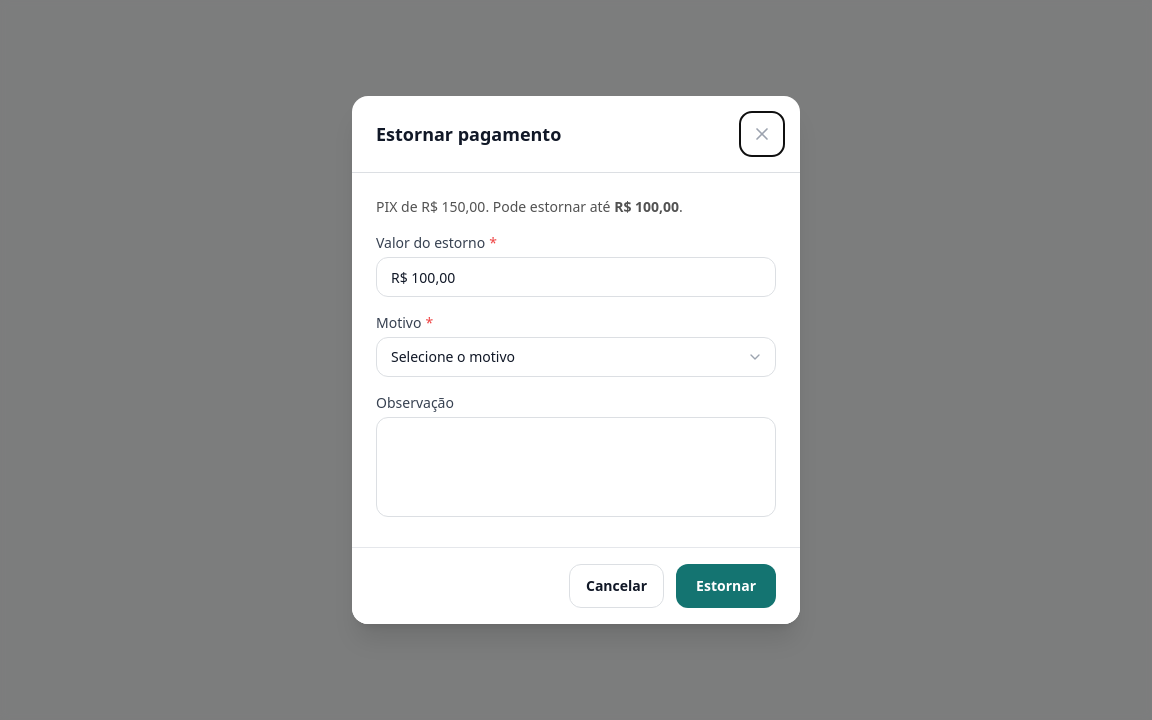
Test case: RefundModal › estorna parcialmente com motivo e observação
Replace the text in the field labelled "Valor do estorno*" with "3000". click: (576, 277)
box: left=376, top=257, right=776, bottom=297
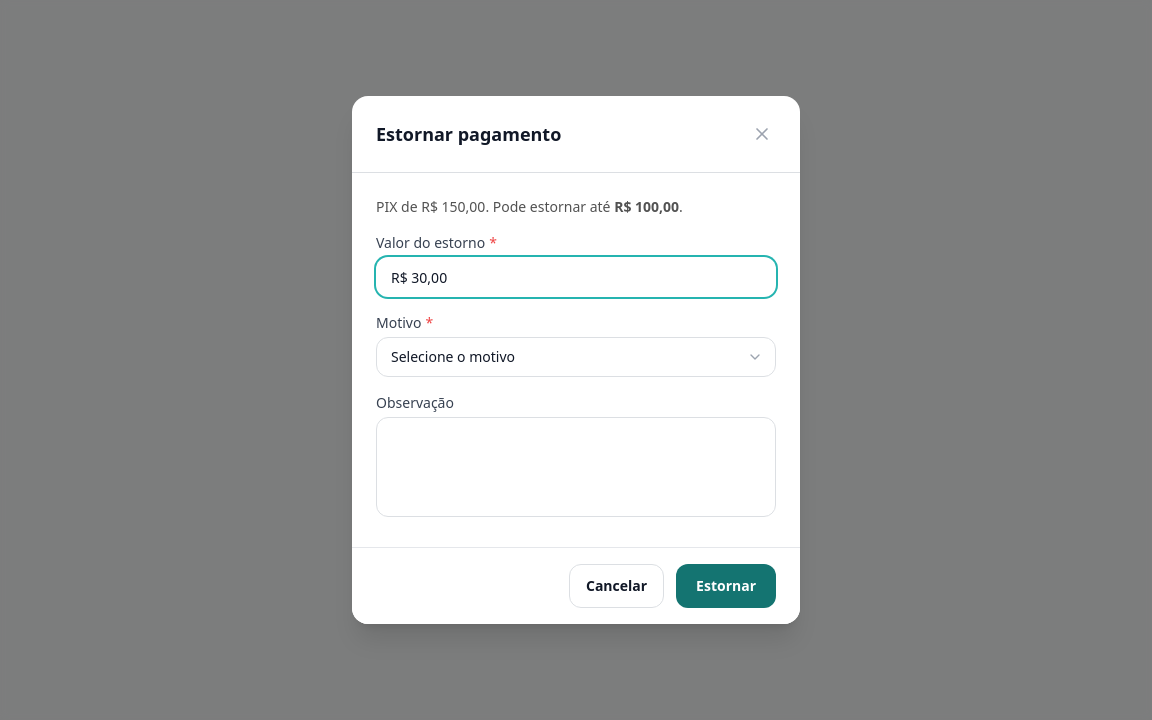
Select "Erro no valor lançado" in the dropdown labelled "Motivo*". click: (576, 357)
box: left=376, top=337, right=776, bottom=377
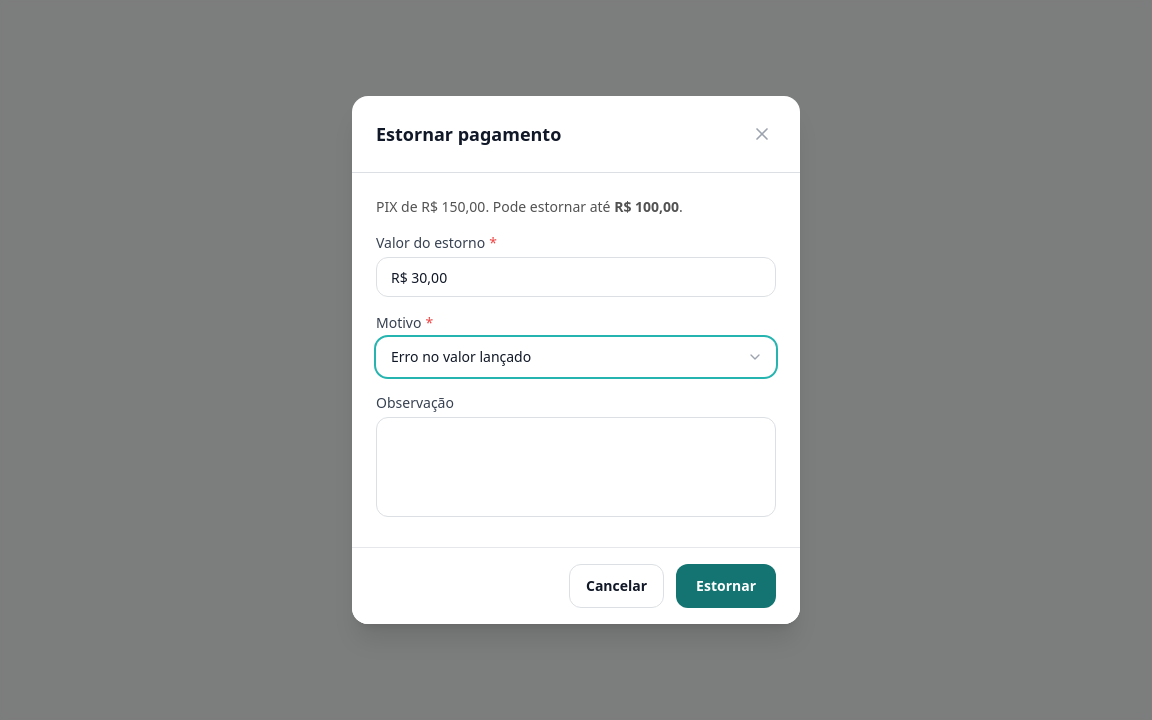
Type "Cobrou a mais" into the text box labelled "Observação". click: (576, 467)
box: left=376, top=417, right=776, bottom=517
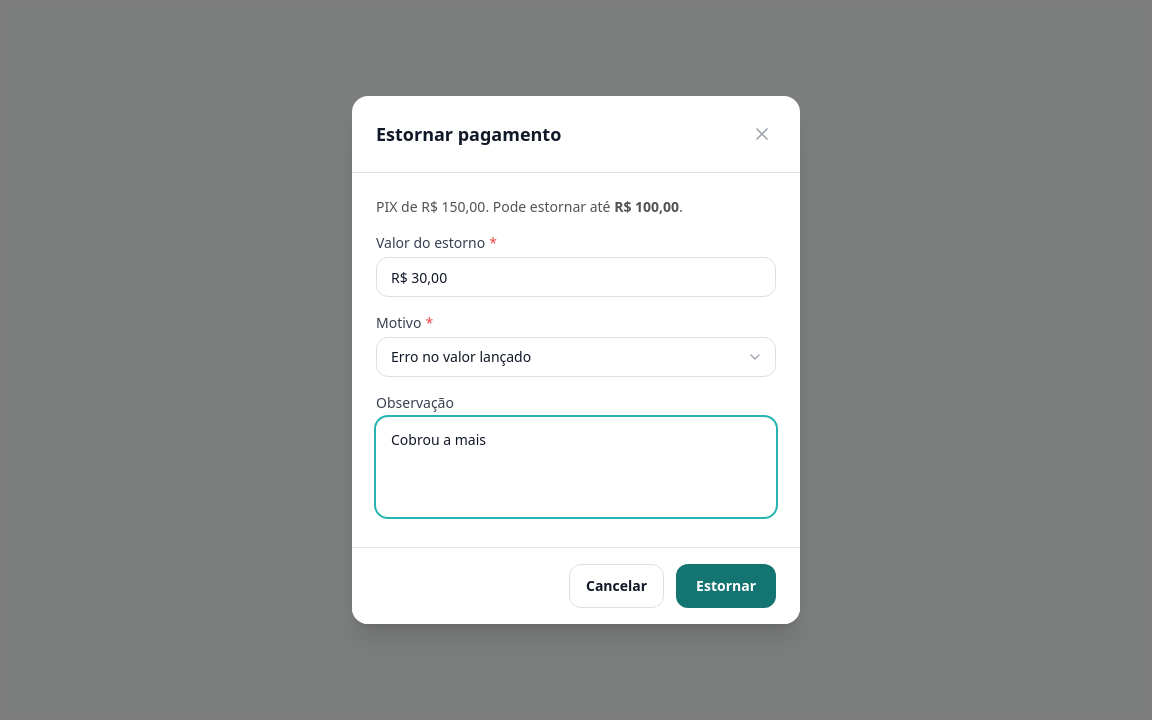
Click the button "Estornar". click: (726, 586)
box: left=676, top=564, right=776, bottom=608
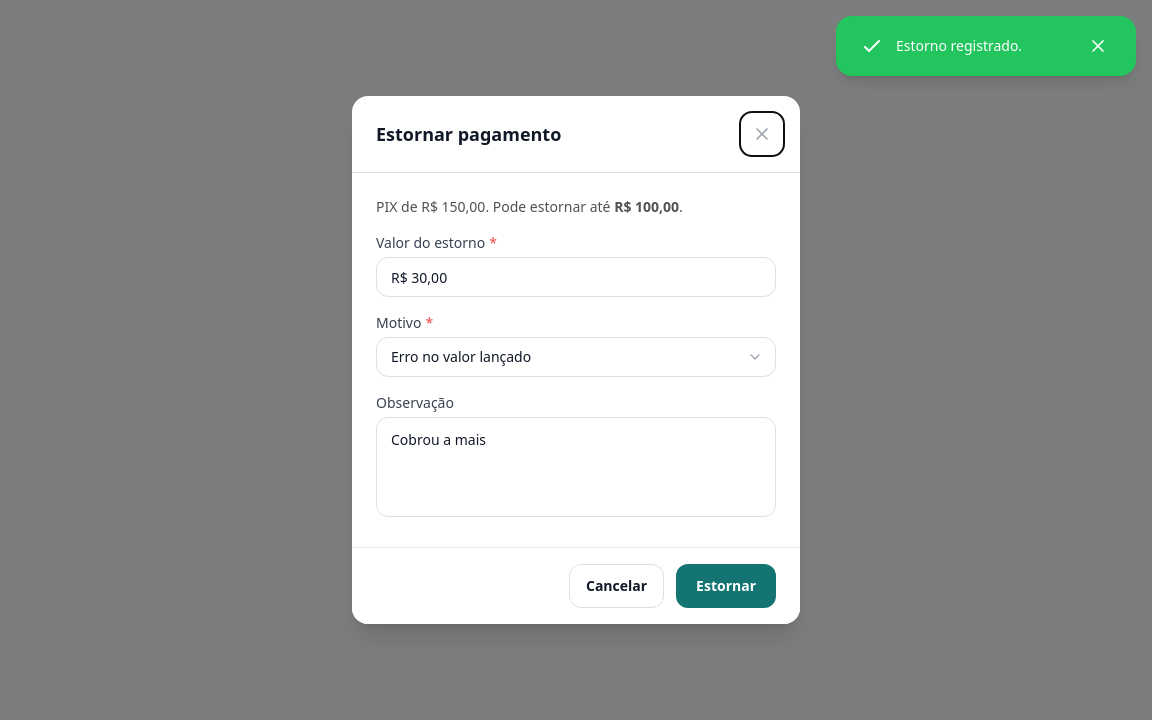
Check: the text "Estorno registrado." is shown, box left=896, top=36, right=1022, bottom=55
